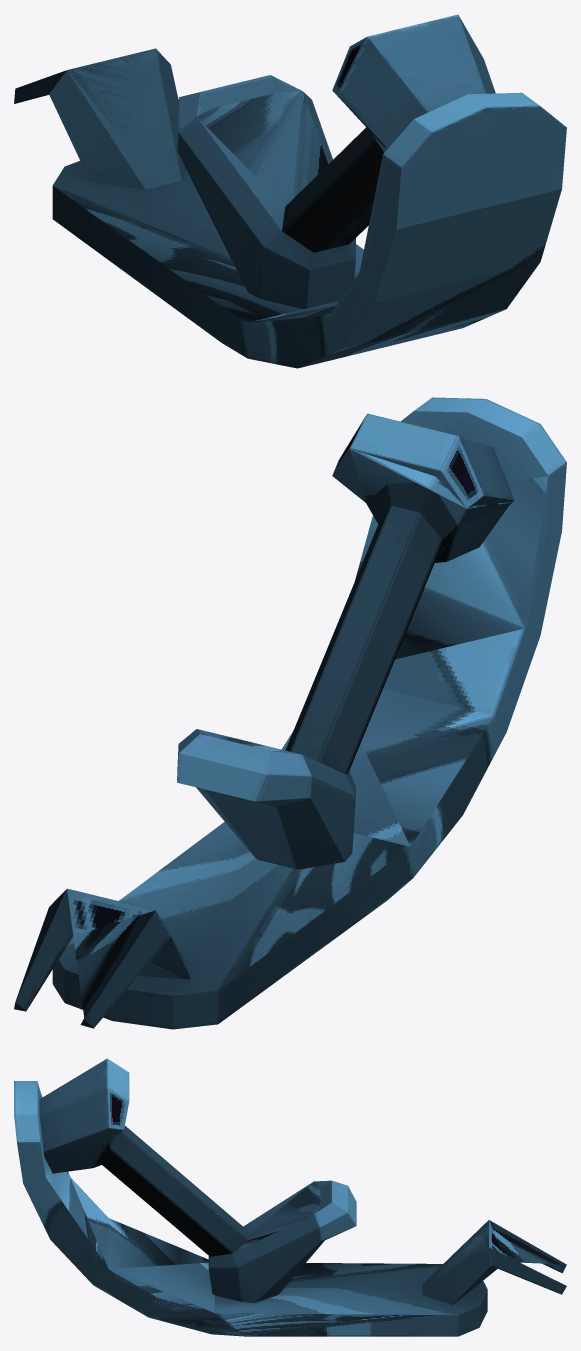
Rendered from item_skishoe.glb.
The picture shows the model from 3 angles, top to bottom: view 1: azimuth 30°, elevation 25°; view 2: azimuth 150°, elevation 25°; view 3: azimuth 270°, elevation 25°; orthographic projection. The views are drawn at different scales.
Visible parts, largest first — view 1: SkiShoe; view 2: SkiShoe; view 3: SkiShoe.
Part boxes in pixels (x1,y1,x2,y2): SkiShoe: [14, 14, 566, 368]; SkiShoe: [14, 397, 566, 1029]; SkiShoe: [14, 1058, 566, 1336].
Bounding box in the file's own units: 0.1051 × 0.2285 × 0.4804.
Materials: 1 (1 with a texture image).
